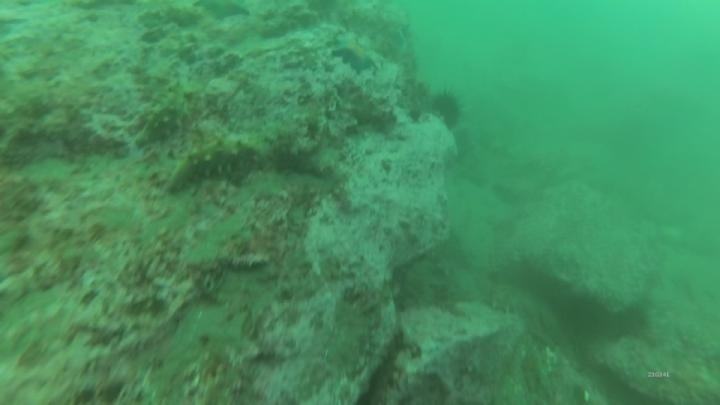echinus: (606, 302, 651, 343), (429, 88, 466, 131)
holothurian: (162, 133, 267, 194), (135, 75, 200, 147)
starfish: (331, 32, 383, 75), (193, 1, 252, 24)
